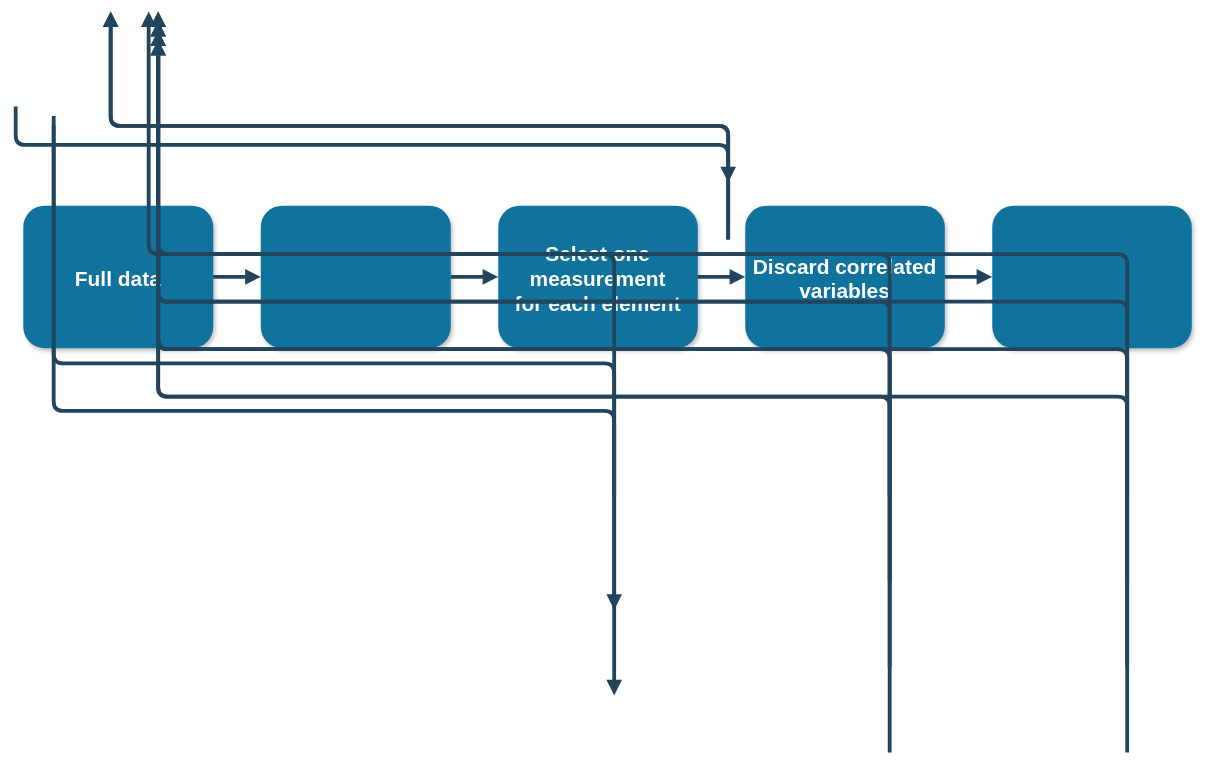
This 1207x769 diagram has some shape labels left out. Here are the shapes that lost their labels. From the top down, the centre of each, then its label:
At point (356, 277): "Remove .std columns".
At point (1092, 277): "Normalize data".
